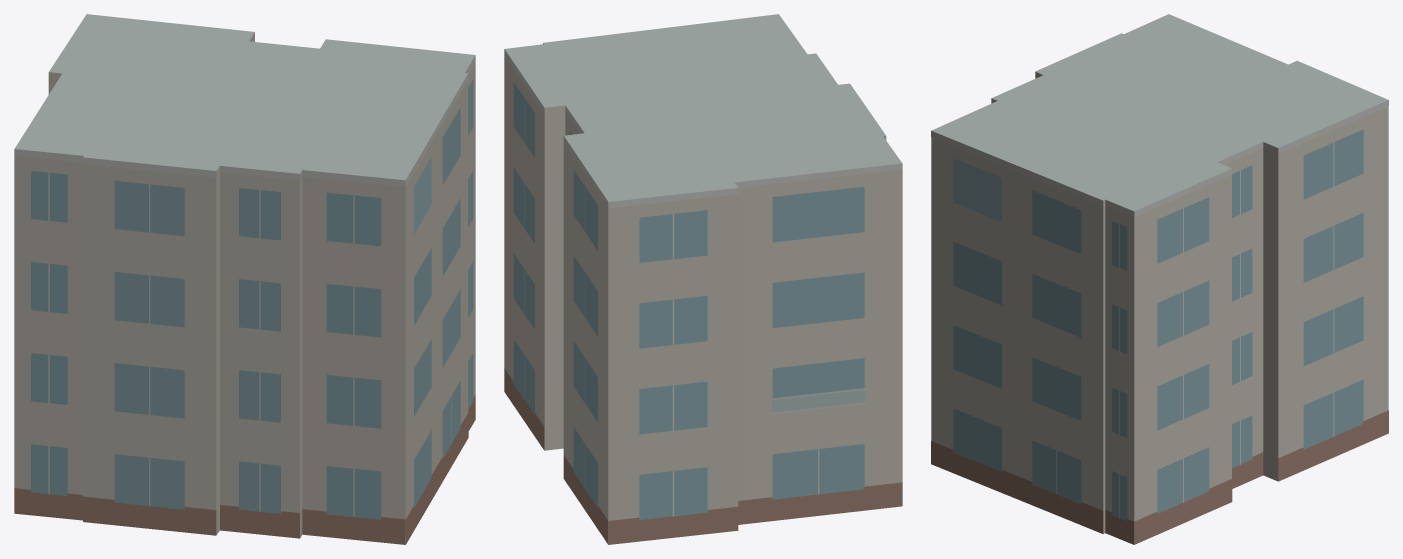
File: survey-upis-32668815.glb
3 renders of one model, left to right at view 1: azimuth 30°, elevation 25°; view 2: azimuth 150°, elevation 25°; view 3: azimuth 270°, elevation 25°, orthographic. The views are drawn at different scales.
Parts seen in each view (by area): view 1: survey-upis-32668815.tmp; view 2: survey-upis-32668815.tmp; view 3: survey-upis-32668815.tmp.
Part boxes in pixels (x1,y1,x2,y2): survey-upis-32668815.tmp: (14,14,475,544); survey-upis-32668815.tmp: (504,14,902,544); survey-upis-32668815.tmp: (931,14,1388,544).
Size of the model in its own units: 16.67 by 13.13 by 16.33.
